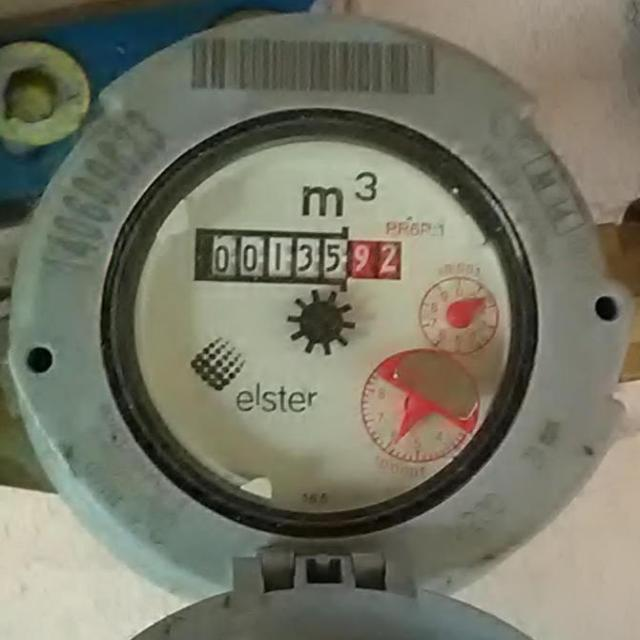gaz_meter: (16, 16, 625, 602)
indication: (197, 231, 402, 288)
